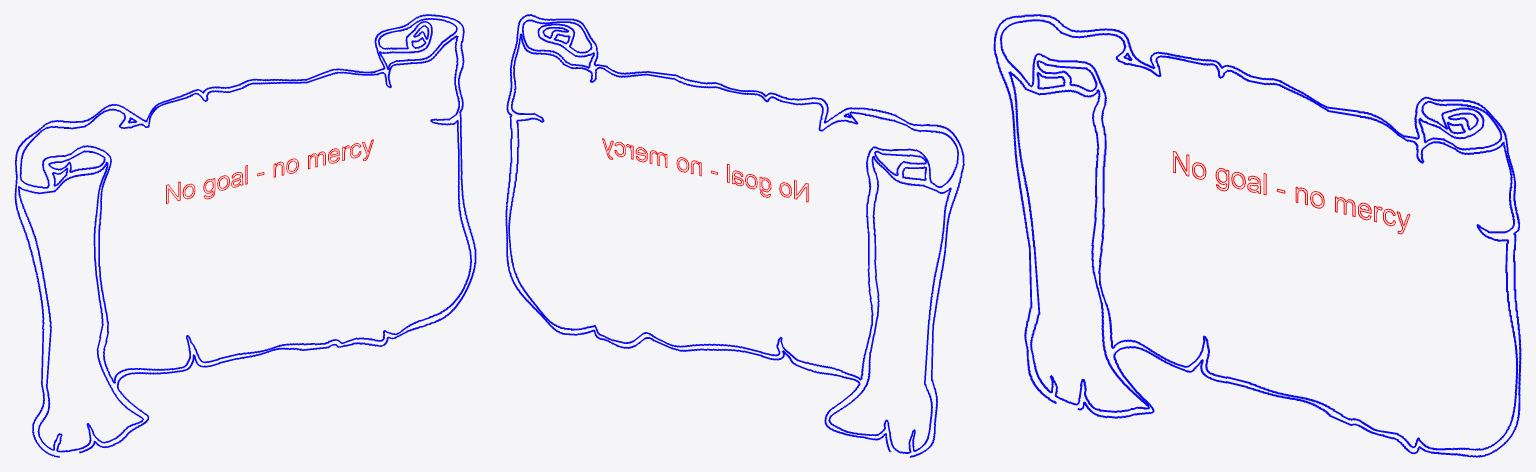
3 views of the same model, side by side, from view 1: azimuth 30°, elevation 25°; view 2: azimuth 150°, elevation 25°; view 3: azimuth 330°, elevation 25° (orthographic). The views are drawn at different scales.
Bounding box in the file's own units: 1.67 × 1.23 × 0.0464.
